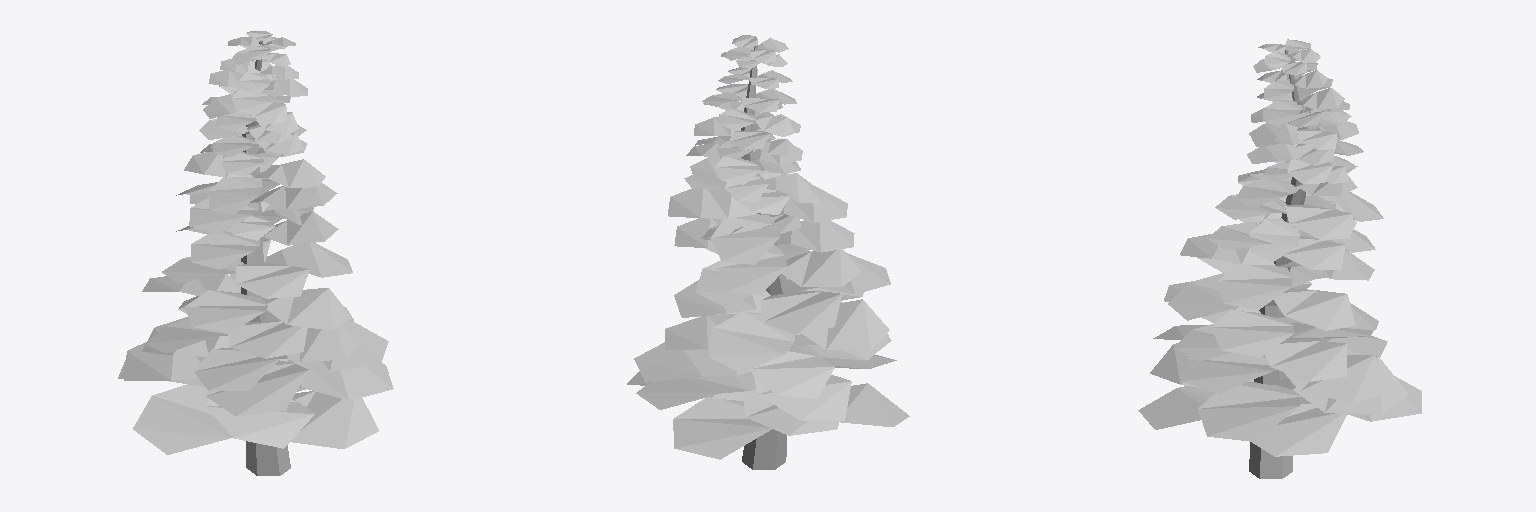
File: uploads_files_3070616_low+polly+trees+3.obj
3 renders of one model, left to right at view 1: azimuth 30°, elevation 25°; view 2: azimuth 150°, elevation 25°; view 3: azimuth 270°, elevation 25°, orthographic.
Visible parts, largest first — view 1: Plane.001_Plane, Plane.002_Plane, Plane.010_Plane, Plane.005_Plane, Plane.014_Plane, Plane.023_Plane, Plane.020_Plane, Plane.006_Plane, Plane.019_Plane, Cylinder.001, Plane.027_Plane, Plane.009_Plane (+20 smaller); view 2: Plane, Plane.017_Plane, Plane.022_Plane, Plane.013_Plane, Plane.018_Plane, Plane.007_Plane, Plane.008_Plane, Plane.032_Plane, Plane.009_Plane, Plane.026_Plane, Cylinder.001, Plane.035_Plane (+20 smaller); view 3: Plane.006_Plane, Plane.003_Plane, Plane.016_Plane, Plane.012_Plane, Plane.024_Plane, Plane.008_Plane, Plane.021_Plane, Plane.011_Plane, Cylinder.001, Plane.002_Plane, Plane.007_Plane, Plane.035_Plane (+23 smaller).
Boxes of the visible parts, x1=… form: Plane.001_Plane: x1=133, y1=384, x2=232, y2=454; Plane.002_Plane: x1=290, y1=391, x2=378, y2=448; Plane.010_Plane: x1=206, y1=360, x2=308, y2=416; Plane.005_Plane: x1=206, y1=399, x2=314, y2=448; Plane.014_Plane: x1=194, y1=347, x2=280, y2=390; Plane.023_Plane: x1=185, y1=290, x2=267, y2=333; Plane.020_Plane: x1=261, y1=288, x2=351, y2=329; Plane.006_Plane: x1=287, y1=360, x2=393, y2=400; Plane.019_Plane: x1=228, y1=321, x2=307, y2=358; Cylinder.001: x1=241, y1=40, x2=290, y2=475; Plane.027_Plane: x1=236, y1=263, x2=309, y2=298; Plane.009_Plane: x1=124, y1=342, x2=204, y2=380; Plane: x1=673, y1=397, x2=771, y2=459; Plane.017_Plane: x1=708, y1=311, x2=794, y2=373; Plane.022_Plane: x1=761, y1=291, x2=841, y2=334; Plane.013_Plane: x1=749, y1=347, x2=834, y2=398; Plane.018_Plane: x1=803, y1=299, x2=889, y2=349; Plane.007_Plane: x1=636, y1=372, x2=755, y2=409; Plane.008_Plane: x1=634, y1=342, x2=748, y2=382; Plane.032_Plane: x1=710, y1=214, x2=780, y2=264; Plane.009_Plane: x1=754, y1=375, x2=851, y2=420; Plane.026_Plane: x1=781, y1=249, x2=861, y2=286; Cylinder.001: x1=741, y1=45, x2=787, y2=469; Plane.035_Plane: x1=668, y1=188, x2=756, y2=218; Plane.006_Plane: x1=1198, y1=382, x2=1302, y2=441; Plane.003_Plane: x1=1252, y1=398, x2=1346, y2=456; Plane.016_Plane: x1=1211, y1=310, x2=1294, y2=357; Plane.012_Plane: x1=1265, y1=339, x2=1347, y2=381; Plane.024_Plane: x1=1218, y1=264, x2=1292, y2=310; Plane.008_Plane: x1=1285, y1=355, x2=1388, y2=402; Plane.021_Plane: x1=1274, y1=288, x2=1355, y2=330; Plane.011_Plane: x1=1180, y1=353, x2=1275, y2=393; Cylinder.001: x1=1249, y1=49, x2=1309, y2=478; Plane.002_Plane: x1=1138, y1=386, x2=1214, y2=429; Plane.007_Plane: x1=1274, y1=356, x2=1408, y2=414; Plane.035_Plane: x1=1285, y1=204, x2=1352, y2=239.
Bounding box in the file's own units: 1.27 × 2.05 × 1.25.